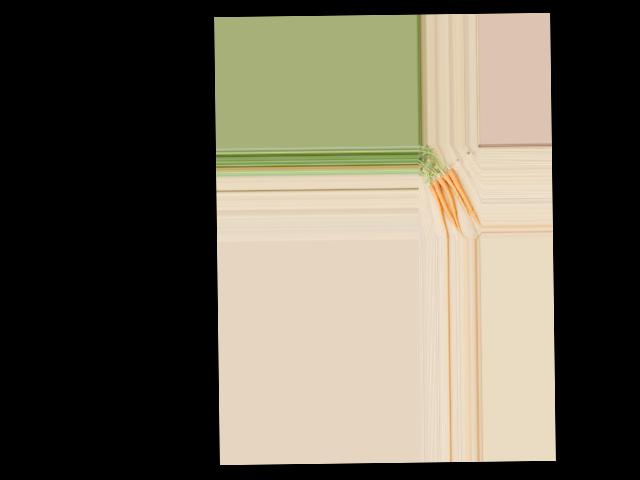carrot: (427, 184, 449, 237)
